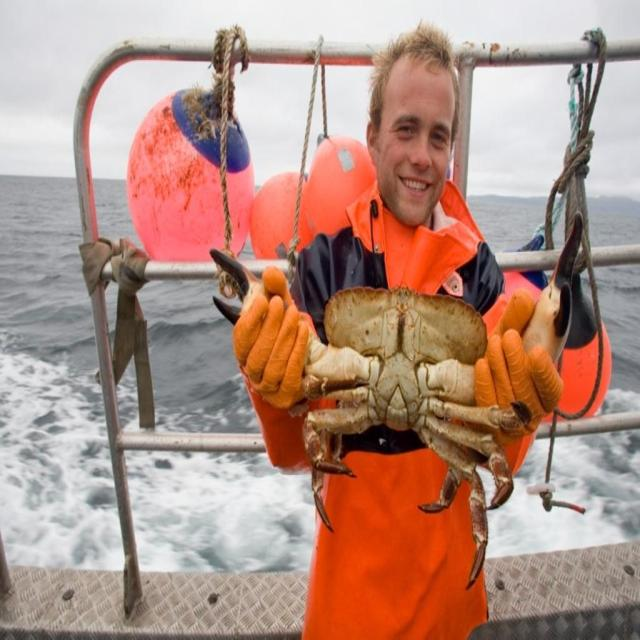Face: (366, 36, 462, 218)
